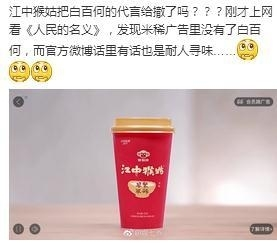cup: (110, 117, 175, 233)
